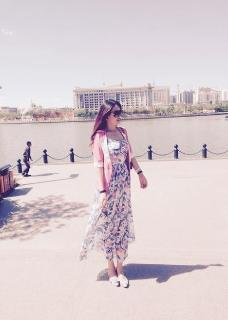sling: (78, 126, 135, 263)
